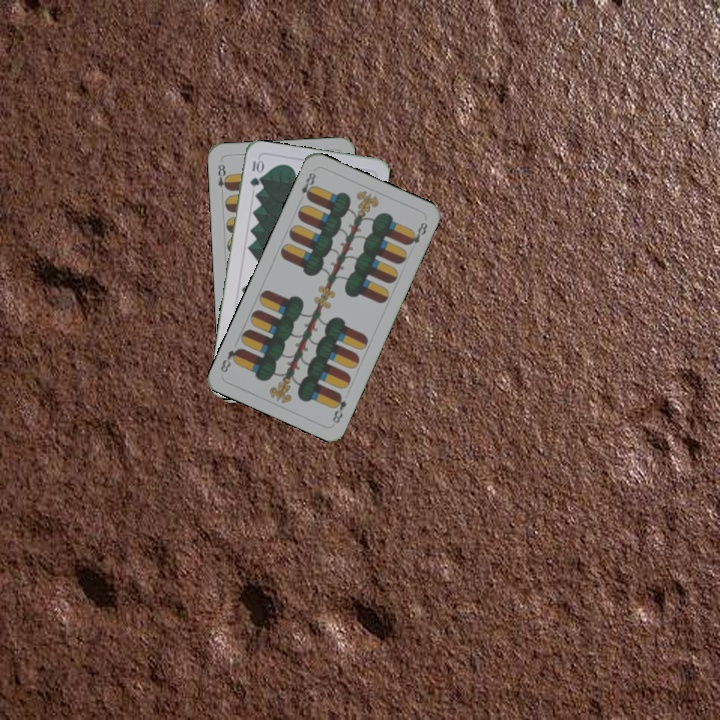E8: (295, 168, 319, 205), (328, 390, 349, 426), (214, 160, 231, 193)
G10: (246, 156, 265, 189)
